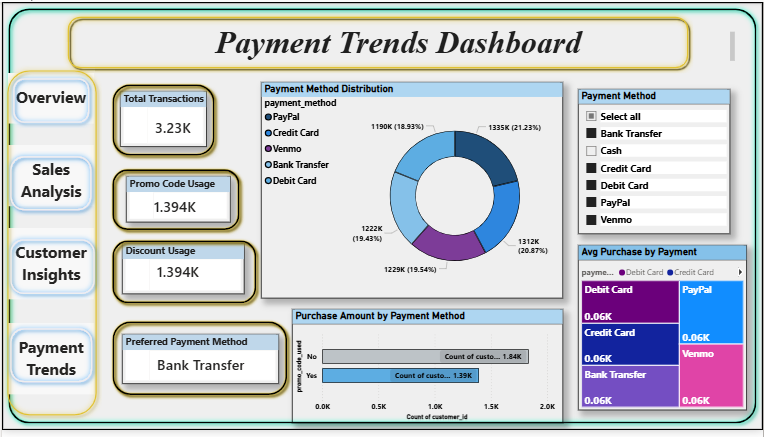

This screenshot's page, from the dashboard's own definition file:
{"tool":"powerbi","page":{"name":"Payment Trends","canvas":[1280,720],"ordinal":3},"visuals":[{"type":"shape","box":[0,0,1280,720],"z":0},{"type":"cardVisual","title":"Total Transactions","fields":{"Data":["CountNonNull(cleaned_customer_shopping_data.customer_id)"]},"box":[198,150,146,94],"z":0,"group":"g3"},{"type":"cardVisual","title":"Promo Code Usage ","fields":{"Data":["CountNonNull(cleaned_customer_shopping_data.promo_code_used)"]},"box":[208,292,176,78],"z":0,"group":"g2"},{"type":"cardVisual","title":"Discount Usage","fields":{"Data":["CountNonNull(cleaned_customer_shopping_data.customer_id)"]},"box":[202,406,206,86],"z":0,"group":"g4"},{"type":"cardVisual","title":"Preferred Payment Method","fields":{"Data":["Min(cleaned_customer_shopping_data.payment_method)"]},"box":[202,558,264,84],"z":0,"group":"g1"},{"type":"textbox","box":[102.6,32,1135.3,72.3],"z":1000},{"type":"shape","box":[176,130,190,138],"z":1000,"group":"g3"},{"type":"shape","box":[176,272,232,120],"z":1000,"group":"g2"},{"type":"shape","box":[176,392,260,124],"z":1000,"group":"g4"},{"type":"shape","box":[176,528,312,142],"z":1000,"group":"g1"},{"type":"textbox","box":[10,120,145,85],"z":2000},{"type":"textbox","box":[10,240,145,102.5],"z":3000},{"type":"textbox","box":[10,380,145,120],"z":4000},{"type":"textbox","box":[10,540,145,120],"z":5000},{"type":"shape","box":[102.6,16.8,1059.7,102.6],"z":6000},{"type":"shape","box":[0,106.7,168.3,598.3],"z":7000},{"type":"shape","box":[10,120,145.7,92.9],"z":8000},{"type":"shape","box":[5.7,251.4,154.3,108.6],"z":9000},{"type":"shape","box":[4.3,390,160,110],"z":10000},{"type":"shape","box":[5.7,540,155.7,108.6],"z":11000},{"type":"group","id":"g1","title":"Group 5","box":[176,528,312,142],"z":12000},{"type":"group","id":"g2","title":"Group 5","box":[176,272,232,120],"z":13000},{"type":"group","id":"g3","title":"Group 5","box":[176,130,190,138],"z":14000},{"type":"group","id":"g4","title":"Group 5","box":[176,392,260,124],"z":15000},{"type":"donutChart","title":"Payment Method Distribution","fields":{"Category":["cleaned_customer_shopping_data.payment_method"],"Y":["Sum(cleaned_customer_shopping_data.customer_id)"]},"box":[436,134,508,364],"z":16000},{"type":"barChart","title":"Purchase Amount by Payment Method","fields":{"Category":["cleaned_customer_shopping_data.promo_code_used"],"Y":["CountNonNull(cleaned_customer_shopping_data.customer_id)"]},"box":[488,516,456,192],"z":17000},{"type":"slicer","title":"Payment Method","fields":{"Values":["cleaned_customer_shopping_data.payment_method"]},"box":[968,146,256,244],"z":18000},{"type":"treemap","title":"Avg Purchase by Payment","fields":{"Group":["cleaned_customer_shopping_data.payment_method"],"Values":["Avg(cleaned_customer_shopping_data.purchase_amount)"]},"box":[968,408,284,278],"z":19000}]}

Visuals, with their boxes in screenshot pixels (x1, y1, x2, y2), scaled from the page's 1280x720 canvas onto the 764x437 screenshot:
shape: select_region(0, 0, 763, 436)
"Total Transactions" cardVisual: select_region(118, 91, 205, 148)
"Promo Code Usage " cardVisual: select_region(124, 177, 229, 225)
"Discount Usage" cardVisual: select_region(121, 246, 244, 299)
"Preferred Payment Method" cardVisual: select_region(121, 339, 278, 390)
textbox: select_region(61, 19, 739, 63)
shape: select_region(105, 79, 218, 163)
shape: select_region(105, 165, 244, 238)
shape: select_region(105, 238, 260, 313)
shape: select_region(105, 320, 291, 407)
textbox: select_region(6, 73, 93, 124)
textbox: select_region(6, 146, 93, 208)
textbox: select_region(6, 231, 93, 303)
textbox: select_region(6, 328, 93, 401)
shape: select_region(61, 10, 694, 72)
shape: select_region(0, 65, 100, 428)
shape: select_region(6, 73, 93, 129)
shape: select_region(3, 153, 96, 218)
shape: select_region(3, 237, 98, 303)
shape: select_region(3, 328, 96, 394)
"Group 5" group: select_region(105, 320, 291, 407)
"Group 5" group: select_region(105, 165, 244, 238)
"Group 5" group: select_region(105, 79, 218, 163)
"Group 5" group: select_region(105, 238, 260, 313)
"Payment Method Distribution" donutChart: select_region(260, 81, 563, 302)
"Purchase Amount by Payment Method" barChart: select_region(291, 313, 563, 430)
"Payment Method" slicer: select_region(578, 89, 731, 237)
"Avg Purchase by Payment" treemap: select_region(578, 248, 747, 416)
